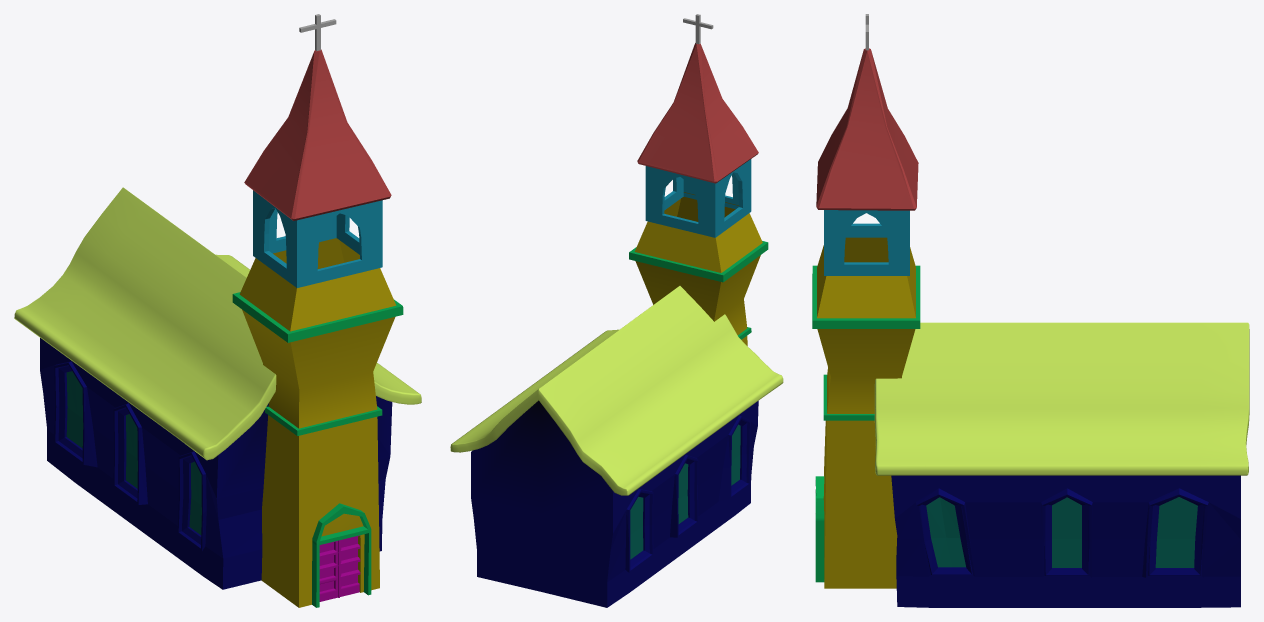
File: Model_Kyrka_texture.fbx
3 renders of one model, left to right at view 1: azimuth 30°, elevation 25°; view 2: azimuth 150°, elevation 25°; view 3: azimuth 270°, elevation 25°, orthographic. The views are drawn at different scales.
Visible parts, largest first — view 1: roof, tower1, House, tower_top, tower_roof, door; view 2: House, roof, tower1, tower_top, tower_roof; view 3: roof, House, tower1, tower_top, tower_roof.
Part boxes in pixels (x1=…): roof: x1=14, y1=187, x2=421, y2=460; tower1: x1=232, y1=238, x2=403, y2=607; House: x1=40, y1=338, x2=392, y2=589; tower_top: x1=244, y1=49, x2=391, y2=220; tower_roof: x1=253, y1=190, x2=382, y2=287; door: x1=319, y1=535, x2=360, y2=601; House: x1=471, y1=400, x2=758, y2=607; roof: x1=450, y1=286, x2=783, y2=495; tower1: x1=629, y1=192, x2=768, y2=345; tower_top: x1=637, y1=43, x2=758, y2=183; tower_roof: x1=645, y1=159, x2=751, y2=237; roof: x1=874, y1=322, x2=1249, y2=475; House: x1=891, y1=475, x2=1240, y2=607; tower1: x1=812, y1=237, x2=920, y2=588; tower_top: x1=816, y1=48, x2=918, y2=210; tower_roof: x1=824, y1=210, x2=909, y2=275.
Size of the model in its own units: 182 by 452 by 323.
